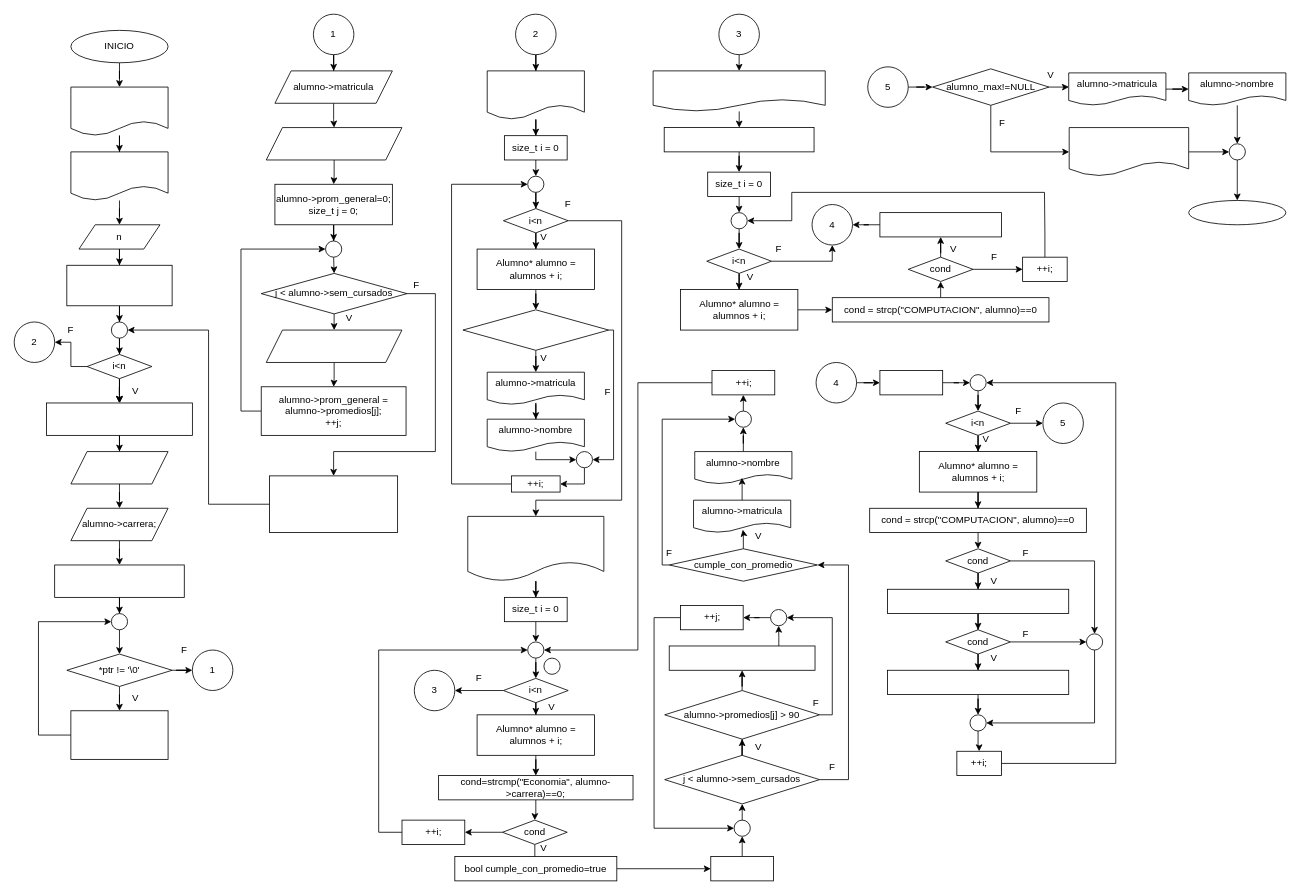
Image size: 1300x895. Some labels were removed from this diagram. The shapes that lost their labels are listed below. From the top down, each one's centre as x and y in pixels, then its label:
the point at 535,94: "Alumnos con promedio mayor a 90"
the point at 738,90: "Alumno con mayor calificacion de la carrera de Computacion"
the point at 119,111: "Sistema de datos FCMF"
the point at 333,143: alumno->sem_cursados
the point at 738,139: Alumno* alumno_max = NULL;
the point at 1128,151: "No se encontraron alumnos en la carrera de computacion"
the point at 119,175: "Introduzca la cantidad de almnos a procesar"
the point at 940,224: alumno_max = alumno;
the point at 1237,212: FIN
the point at 119,285: Alumno alumnos[n]; size_t i = 0
the point at 333,345: alumno->promedios[j]
the point at 535,329: alumno->prom_general > 90
the point at 911,382: i = i+1
the point at 119,418: Alumno* alumno = alumnos+i;
the point at 119,467: alumno->nombre;
the point at 333,504: alumno->prom_general /= alumno->sem_cursados; ++i;
the point at 535,548: "Alumnos de ECONOMIA con promedios mayor a noventa en todos sus semestres"
the point at 119,580: char* ptr = alumno->carrera;
the point at 978,601: cond = alumno->prom_general > alumno_max->prom_general
the point at 741,657: cumple_con_promedio=false
the point at 978,682: alumno_max = alumno
the point at 119,734: *ptr=toupper(*ptr); ++ptr;
the point at 742,868: size_t j = 0
